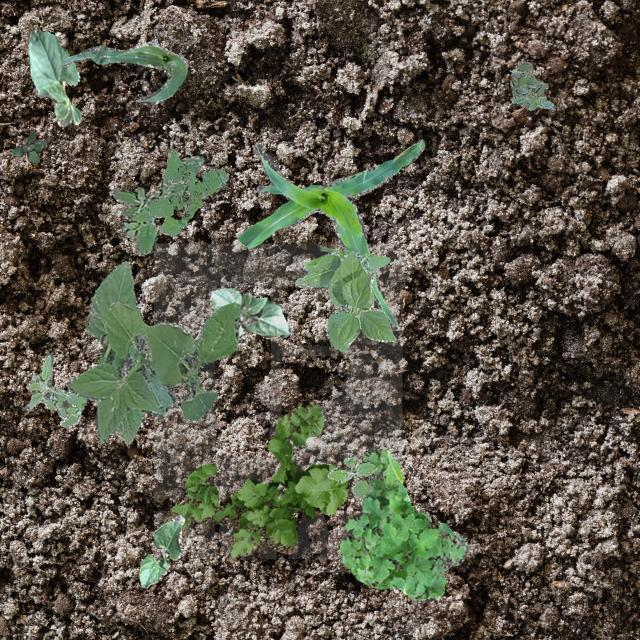crop: (234, 138, 423, 330), (294, 245, 394, 352), (84, 260, 142, 444), (58, 41, 186, 104), (26, 28, 81, 126), (208, 286, 290, 336), (138, 514, 184, 588)
weed: (162, 400, 348, 562), (64, 300, 240, 440), (338, 448, 470, 600), (110, 154, 204, 254), (148, 147, 226, 236), (24, 352, 86, 426), (508, 59, 554, 110), (326, 457, 376, 502), (10, 130, 44, 162)
